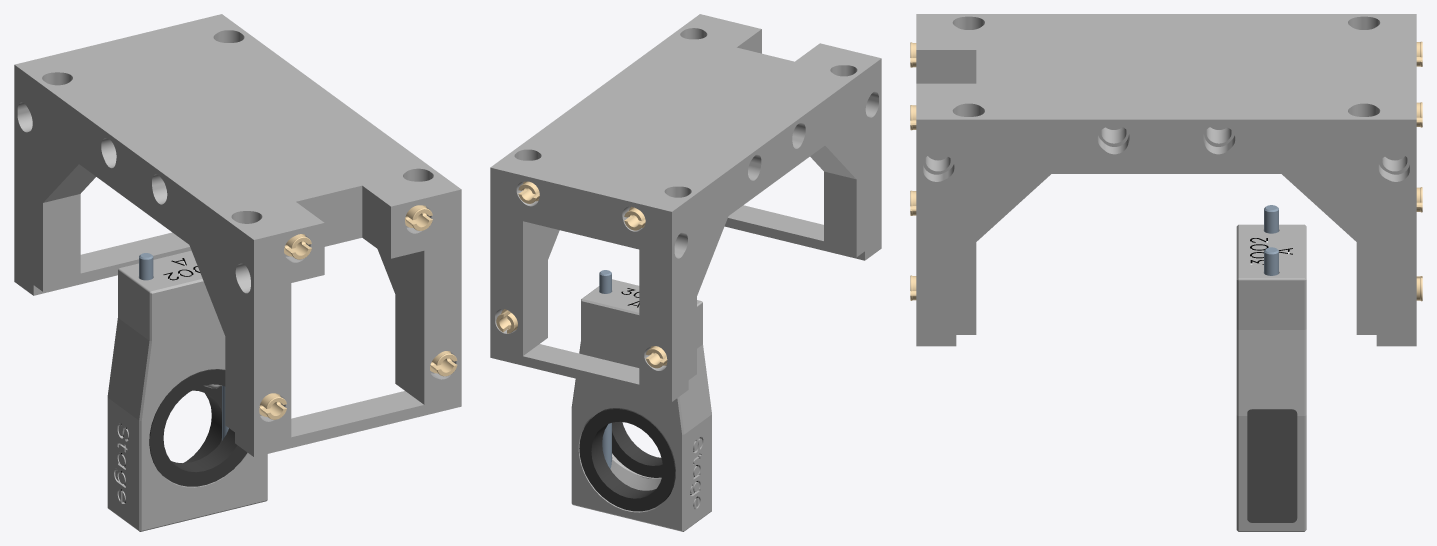
File: ASS_-_3002_-_CASAUTSTGR22.glb
The picture shows the model from 3 angles, left to right: view 1: azimuth 30°, elevation 25°; view 2: azimuth 150°, elevation 25°; view 3: azimuth 270°, elevation 25°; orthographic projection. The views are drawn at different scales.
Visible parts, largest first — view 1: PRT - 3016 - CASAUTSTG:1, PRT - 3002 - OBJMNT - A:1, BUY - Adapter - SM1 thread to RMS thread:1, BUY - Adapter - SM1 thread to RMS thread:2, BUY - LEGO technic - 3_4 pin - art. no. 32002:4, BUY - LEGO technic - 3_4 pin - art. no. 32002:3, BUY - LEGO technic - 3_4 pin - art. no. 32002:2, BUY - LEGO technic - 3_4 pin - art. no. 32002:7; view 2: PRT - 3016 - CASAUTSTG:1, PRT - 3002 - OBJMNT - A:1, BUY - Adapter - SM1 thread to RMS thread:2, BUY - Adapter - SM1 thread to RMS thread:1, ISO 4762 - Hex socket head cap screw - M3 x 55 - 8.8 - A2K:1; view 3: PRT - 3016 - CASAUTSTG:1, PRT - 3002 - OBJMNT - A:1, PRT - 5005 - STKCAUHNDCRU25x10:2.
Part boxes in pixels (<box>): PRT - 3016 - CASAUTSTG:1: <box>14,14,461,457</box>; PRT - 3002 - OBJMNT - A:1: <box>107,250,267,531</box>; BUY - Adapter - SM1 thread to RMS thread:1: <box>149,369,247,486</box>; BUY - Adapter - SM1 thread to RMS thread:2: <box>183,386,221,463</box>; BUY - LEGO technic - 3_4 pin - art. no. 32002:4: <box>259,393,286,419</box>; BUY - LEGO technic - 3_4 pin - art. no. 32002:3: <box>405,205,432,230</box>; BUY - LEGO technic - 3_4 pin - art. no. 32002:2: <box>284,234,311,259</box>; BUY - LEGO technic - 3_4 pin - art. no. 32002:7: <box>430,351,457,376</box>; PRT - 3016 - CASAUTSTG:1: <box>490,14,881,401</box>; PRT - 3002 - OBJMNT - A:1: <box>571,279,711,531</box>; BUY - Adapter - SM1 thread to RMS thread:2: <box>579,408,675,511</box>; BUY - Adapter - SM1 thread to RMS thread:1: <box>612,421,662,477</box>; ISO 4762 - Hex socket head cap screw - M3 x 55 - 8.8 - A2K:1: <box>599,270,611,468</box>; PRT - 3016 - CASAUTSTG:1: <box>916,14,1416,346</box>; PRT - 3002 - OBJMNT - A:1: <box>1236,224,1306,531</box>; PRT - 5005 - STKCAUHNDCRU25x10:2: <box>1247,409,1297,522</box>.
Bounding box in the file's own units: 50 × 95.5 × 102.
